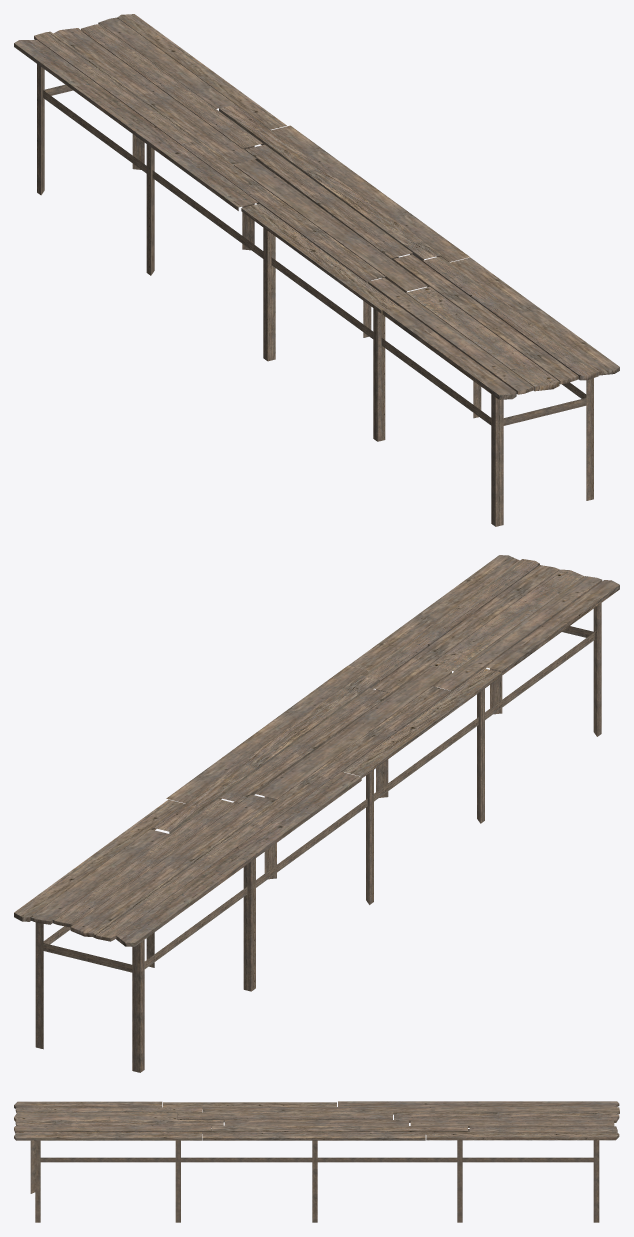
Rendered from Prop_Mq01_lod2.glb.
3 views of the same model, one above another, from view 1: azimuth 30°, elevation 25°; view 2: azimuth 150°, elevation 25°; view 3: azimuth 270°, elevation 25° (orthographic). The views are drawn at different scales.
Visible parts, largest first — view 1: xiutz_mq_01_lod2; view 2: xiutz_mq_01_lod2; view 3: xiutz_mq_01_lod2.
Part boxes in pixels (box(x1,y1,x2,y2)): xiutz_mq_01_lod2: box(14, 14, 619, 526); xiutz_mq_01_lod2: box(14, 555, 619, 1072); xiutz_mq_01_lod2: box(14, 1101, 619, 1222).
Bounding box in the file's own units: 3.94 × 4.37 × 27.1.
1 material, 1 textured.
